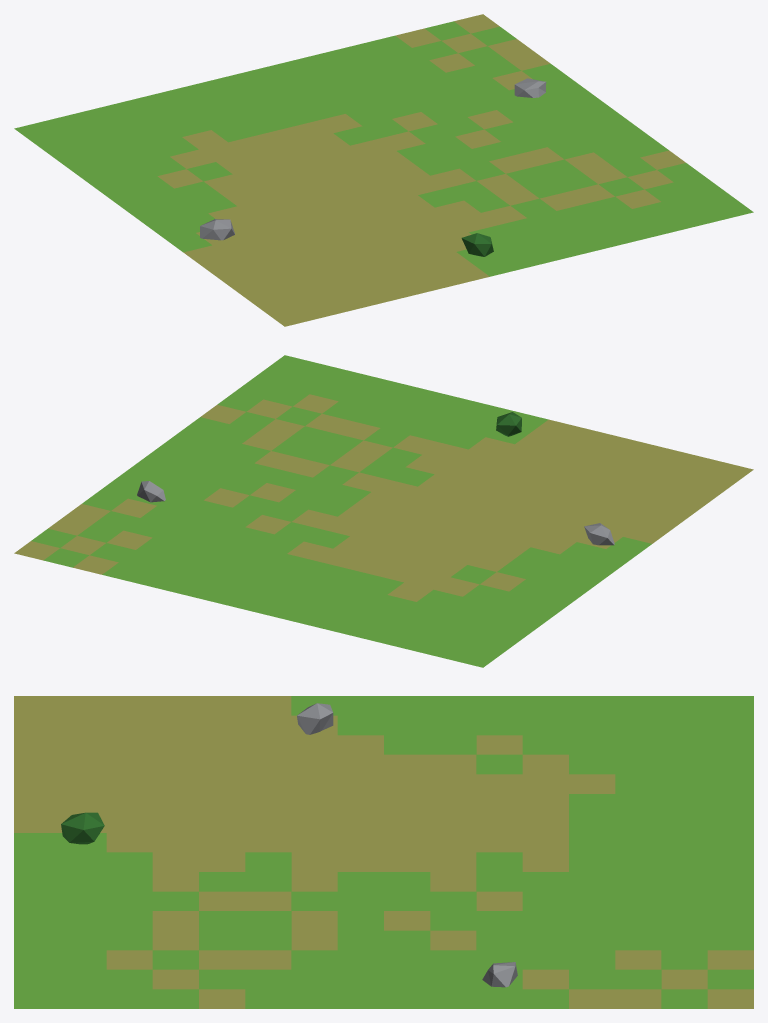
The model's file is chunk_10_4.glb.
3 views of the same model, one above another, from view 1: azimuth 30°, elevation 25°; view 2: azimuth 150°, elevation 25°; view 3: azimuth 270°, elevation 25° (orthographic). The views are drawn at different scales.
Visible parts, largest first — view 1: chunk_10_4; view 2: chunk_10_4; view 3: chunk_10_4.
Part boxes in pixels (bbox=[...]): chunk_10_4: bbox=[14, 14, 753, 326]; chunk_10_4: bbox=[14, 355, 753, 667]; chunk_10_4: bbox=[14, 696, 753, 1008].
Bounding box in the file's own units: 16 × 1.07 × 16.
